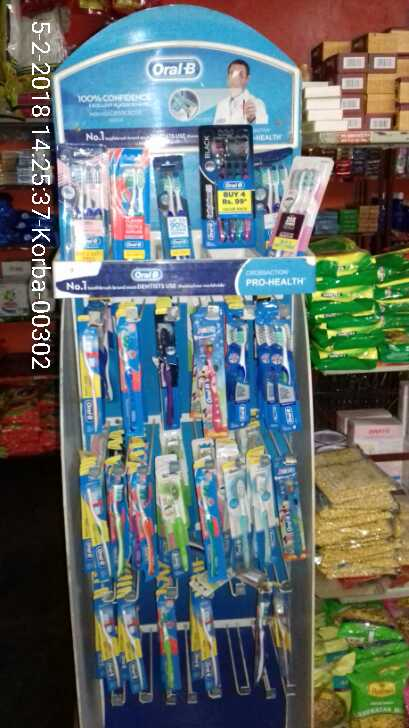oralb: (259, 154, 328, 257), (53, 131, 106, 257), (256, 306, 298, 428), (202, 132, 250, 238), (114, 309, 148, 428), (156, 144, 191, 255), (112, 143, 146, 257), (190, 322, 228, 424), (160, 470, 197, 570), (196, 475, 229, 581), (224, 312, 252, 422), (117, 609, 152, 693), (154, 601, 183, 701), (81, 320, 104, 437), (193, 607, 225, 690), (260, 472, 281, 584), (93, 605, 117, 696), (84, 480, 105, 575), (230, 474, 251, 567), (136, 483, 154, 574), (108, 480, 125, 575)
